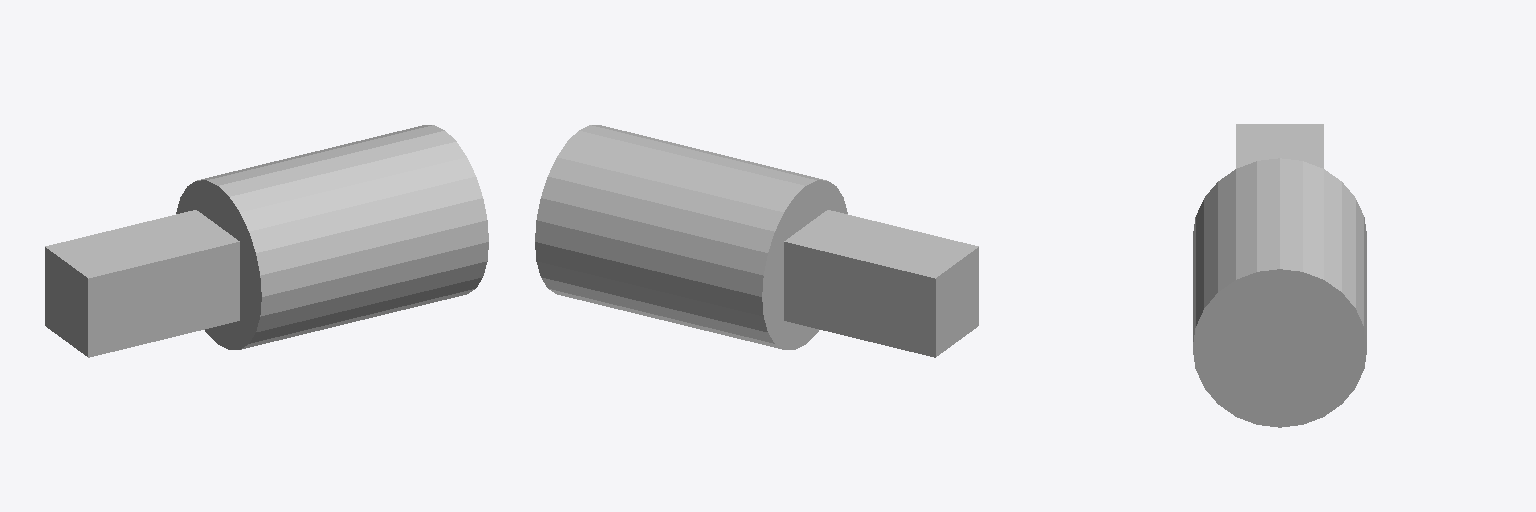
File: peg_ps.obj
The picture shows the model from 3 angles: view 1: azimuth 30°, elevation 25°; view 2: azimuth 150°, elevation 25°; view 3: azimuth 270°, elevation 25°; orthographic projection.
Bounding box in the file's own units: 0.5 × 0.2 × 0.2.